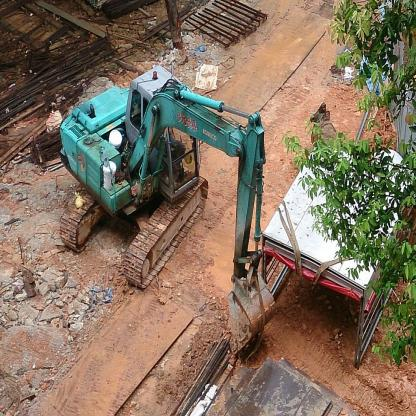excavator: (46, 59, 281, 362)
